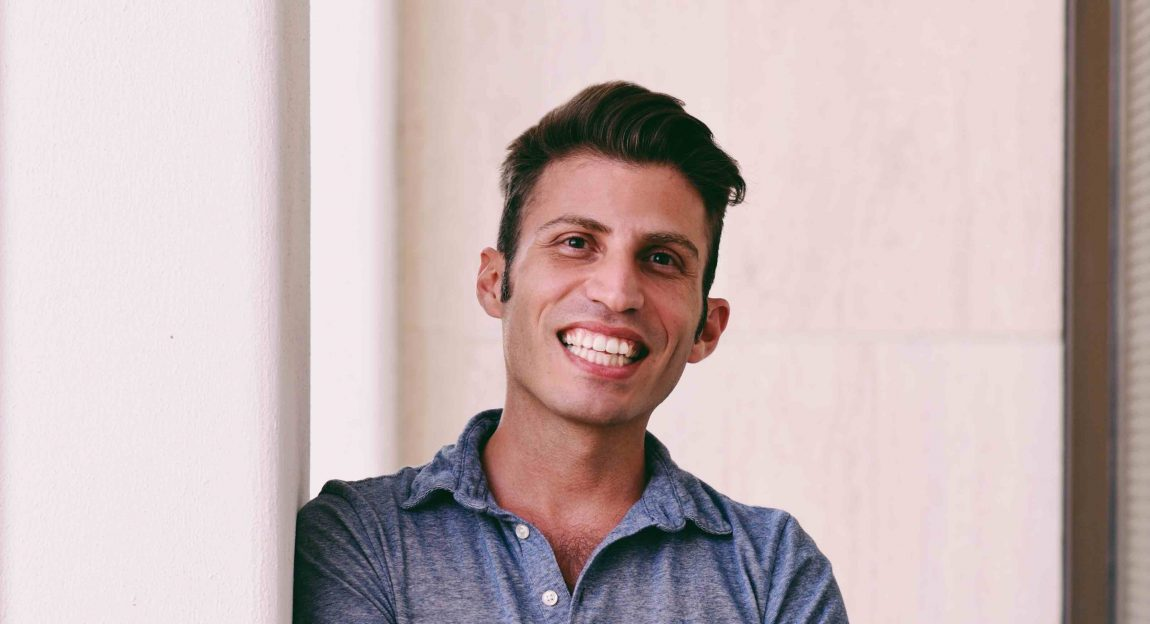bare: (498, 277, 694, 419)
